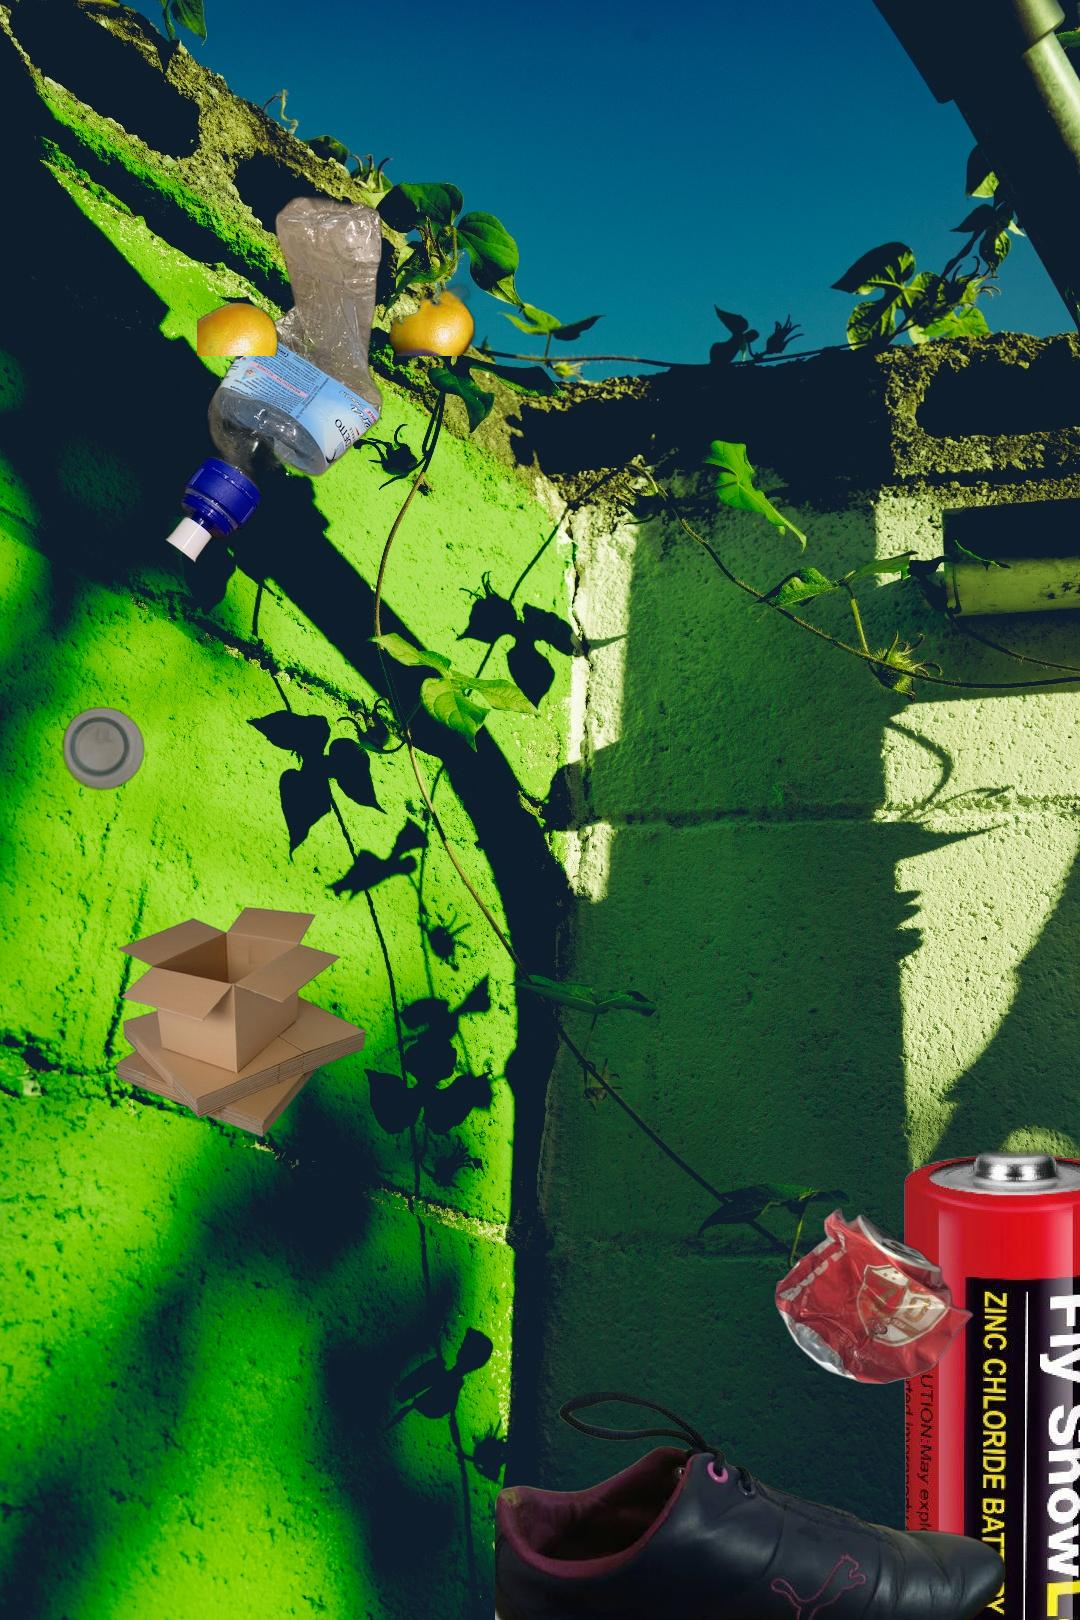battery: (900, 1141, 1080, 1620)
biological: (196, 202, 523, 356)
glass: (58, 704, 149, 792)
metal-cans: (771, 1205, 978, 1389)
plastic-bottles: (162, 190, 387, 568)
shoes: (495, 1390, 1010, 1620)
trashbox-cardboard: (116, 906, 366, 1140)
